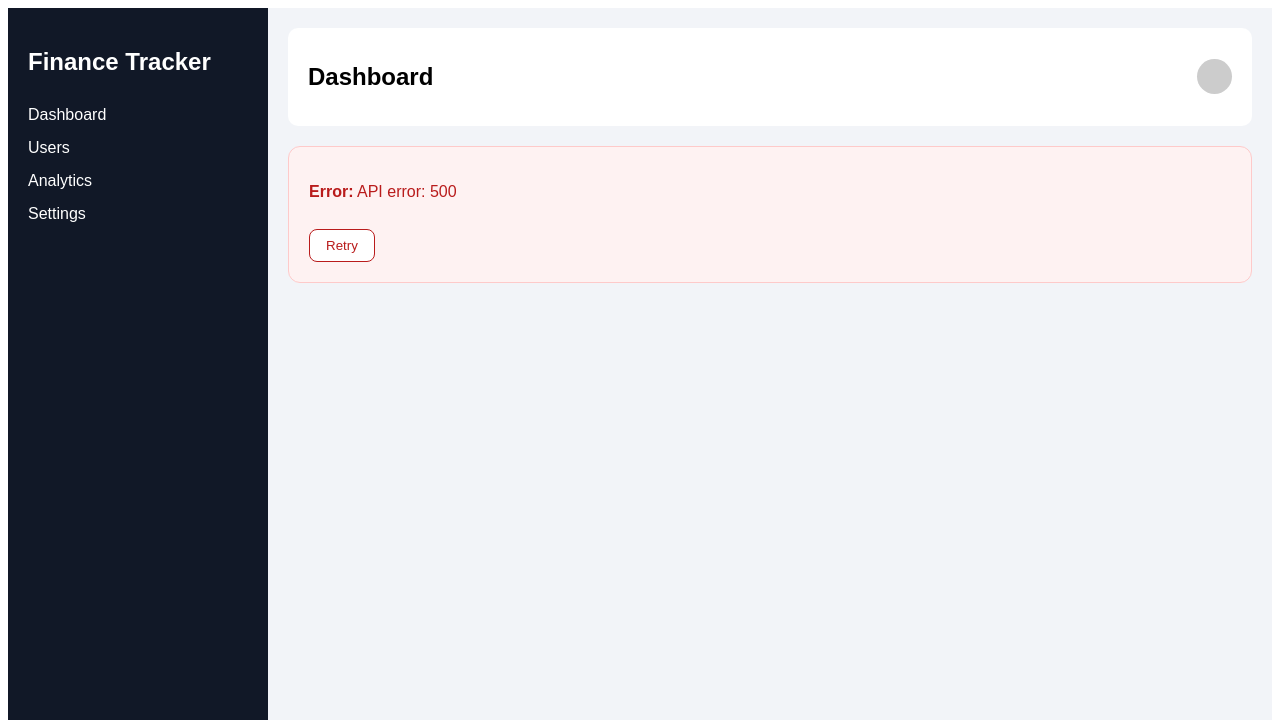
Test: App dashboard › shows error and allows retry on failed fetch
expect the text "Error: API error: 500" is shown: met, box [309, 183, 457, 200]
Click the button "Retry". click: (342, 245)
box: [309, 229, 375, 262]
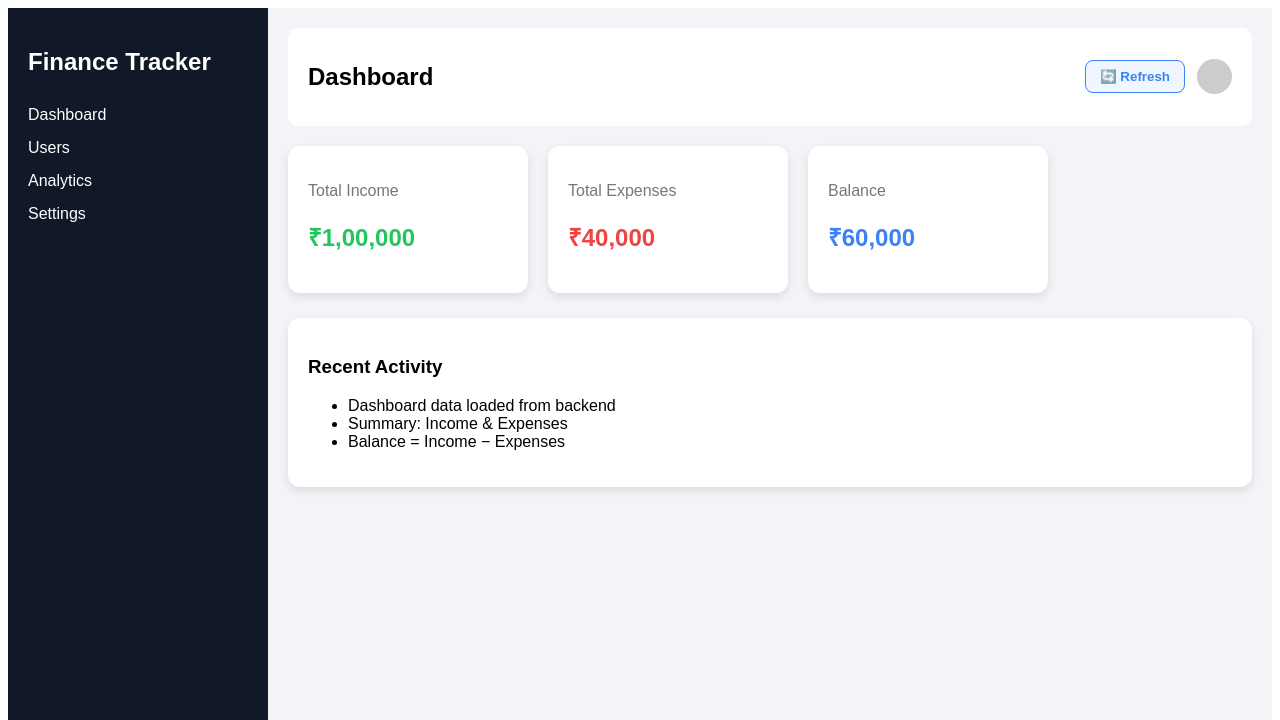
expect the text "Error:" is gone: met
